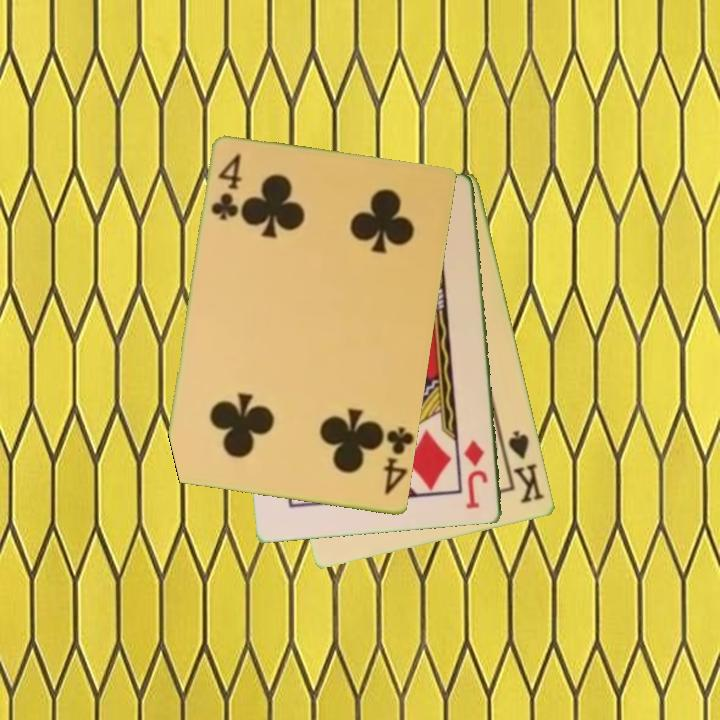4c: (207, 151, 245, 224), (381, 424, 415, 498)
Jd: (461, 437, 491, 512)
Ks: (499, 427, 549, 507)
